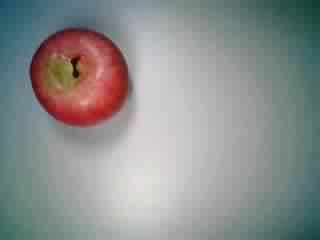apple: (29, 28, 129, 127)
